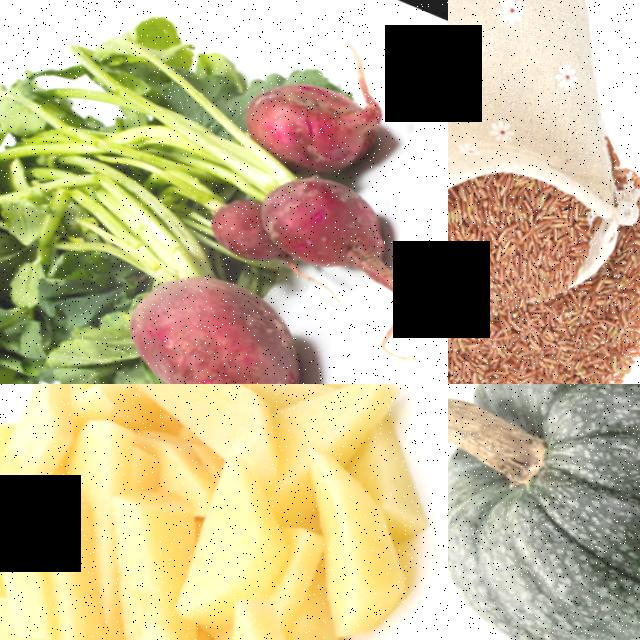potato: (243, 431, 448, 640), (161, 440, 315, 634), (0, 462, 123, 640), (109, 384, 311, 471), (0, 384, 113, 496), (182, 589, 398, 640)
pumpkin: (448, 384, 640, 640)
radishes: (127, 16, 448, 317), (24, 193, 380, 384)
red rice: (448, 151, 606, 344), (448, 226, 640, 384)
